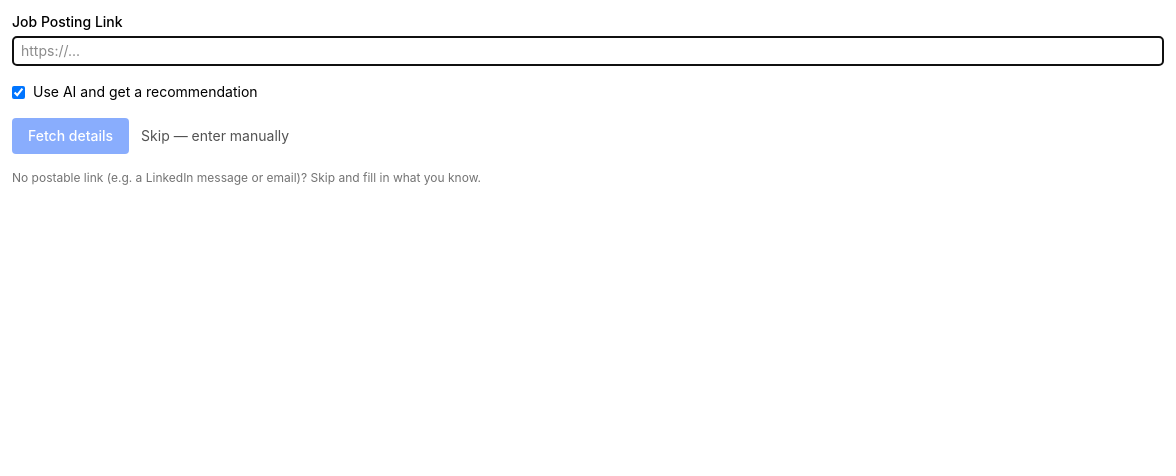
Test: AddJobForm › fetching details reveals the form prefilled with the scraped fields
Step 1. Type "https://acme.com/jobs/1" into the field labelled "Job Posting Link" → (588, 51), box [12,36,1164,66]
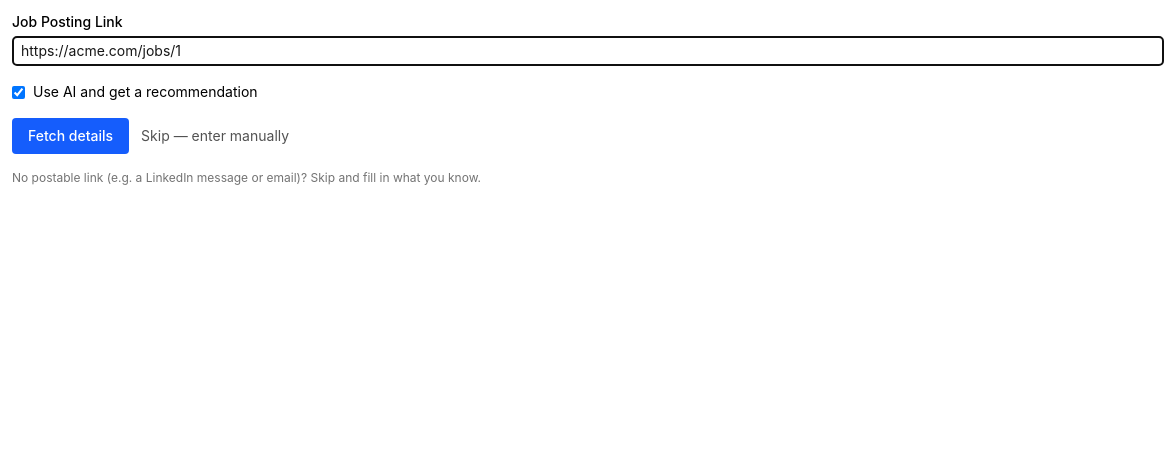
Step 2. Click the button "Fetch details" → click(71, 136), box [12,118,129,154]
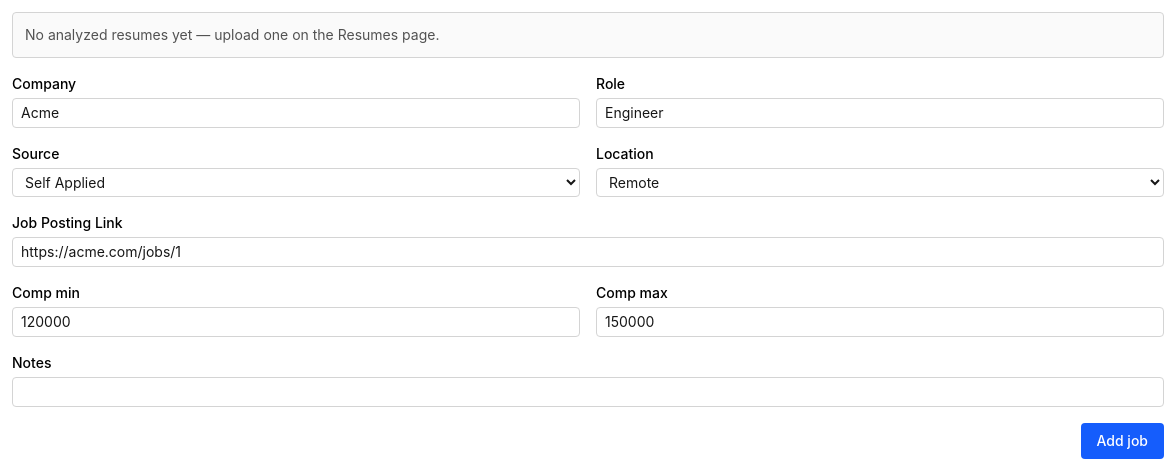
Expected: the field labelled "Company" holds "Acme", [12,98,580,128]
Expected: the field labelled "Role" holds "Engineer", [596,98,1164,128]
Expected: the number field labelled "Comp min" holds "120000", [12,307,580,337]
